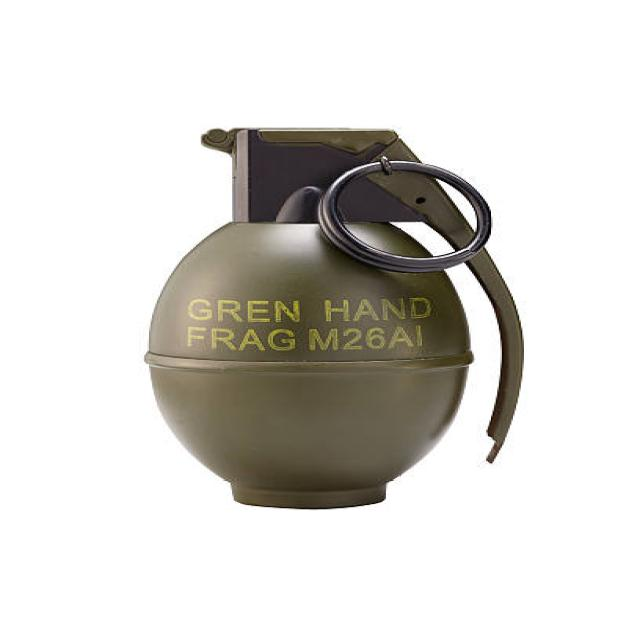grenade: (134, 120, 533, 527)
